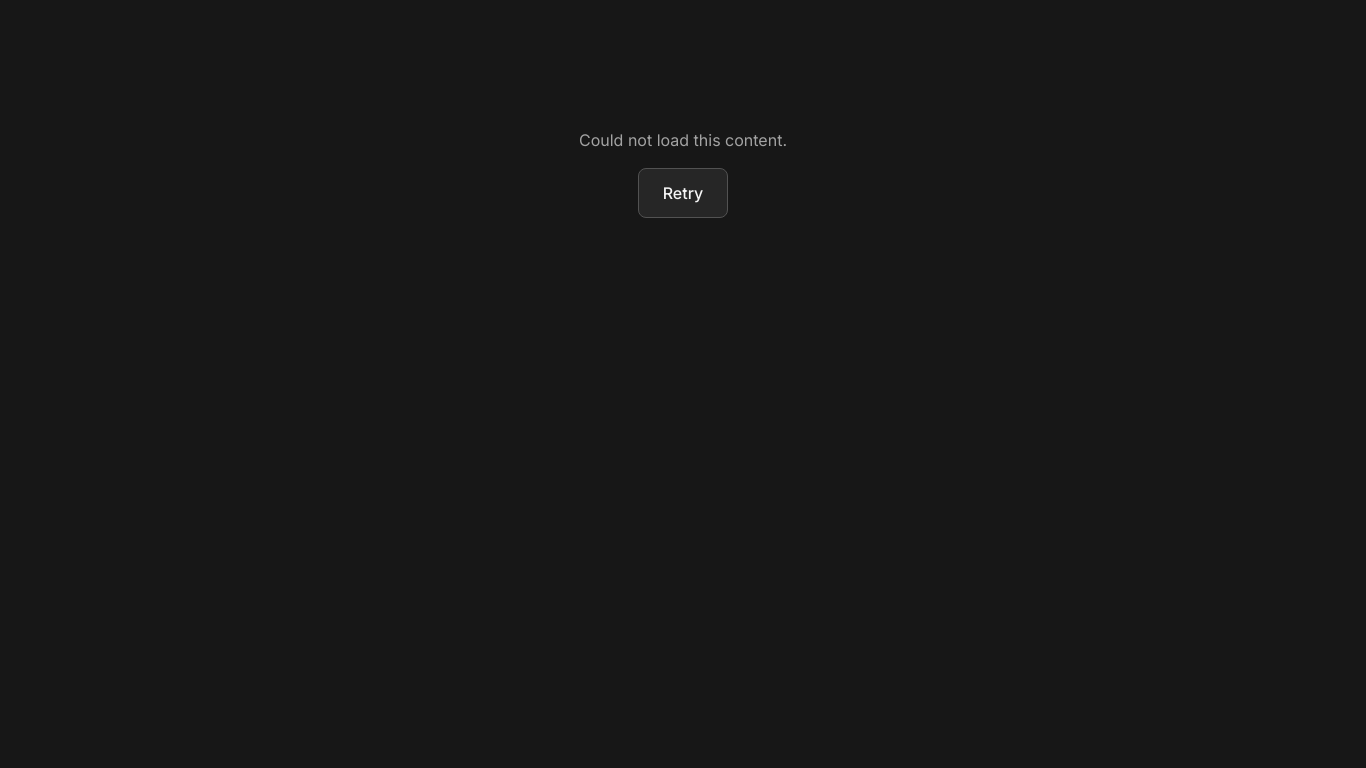
it: Home › shows the load error with retry instead of an empty hero when settings fail
The width and height of the screenshot is (1366, 768).
Expected: the text "Could not load this content." is shown, [579,130,787,150]
Step 1. Click the button "Retry" → (683, 193), box [638,168,728,218]
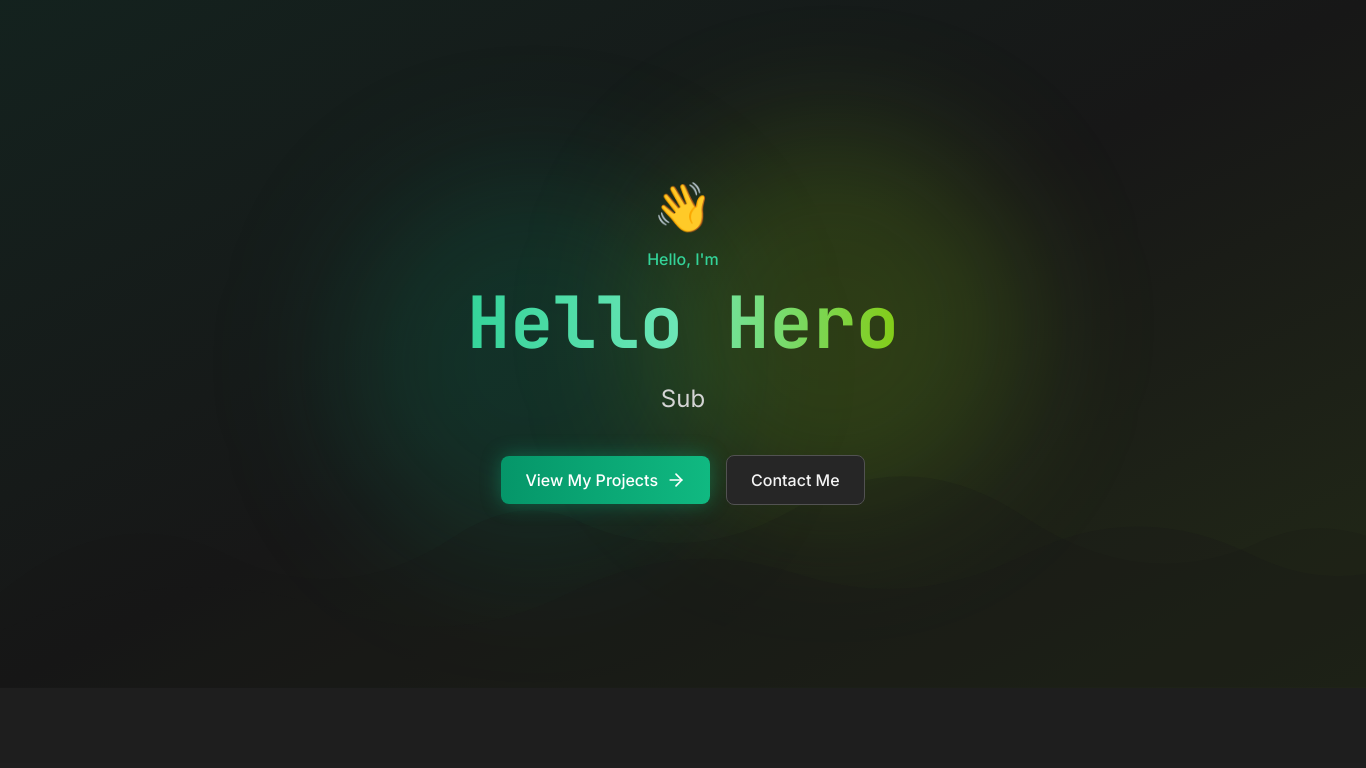
Expected: the text "Hello Hero" is shown, [467,275,899,370]
Expected: the text "Could not load this content." is gone
